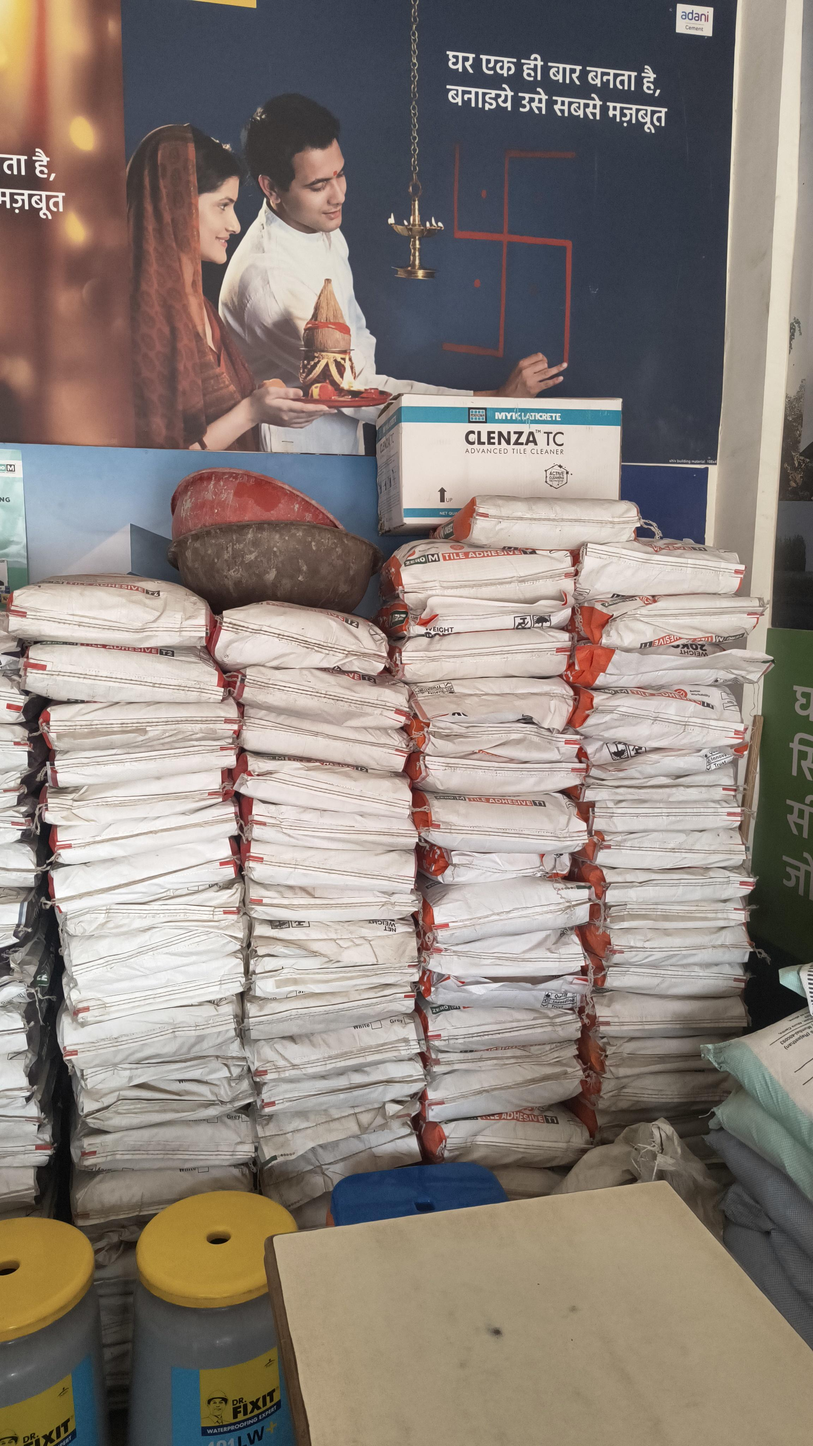poster: (0, 2, 730, 399), (4, 401, 375, 575)
